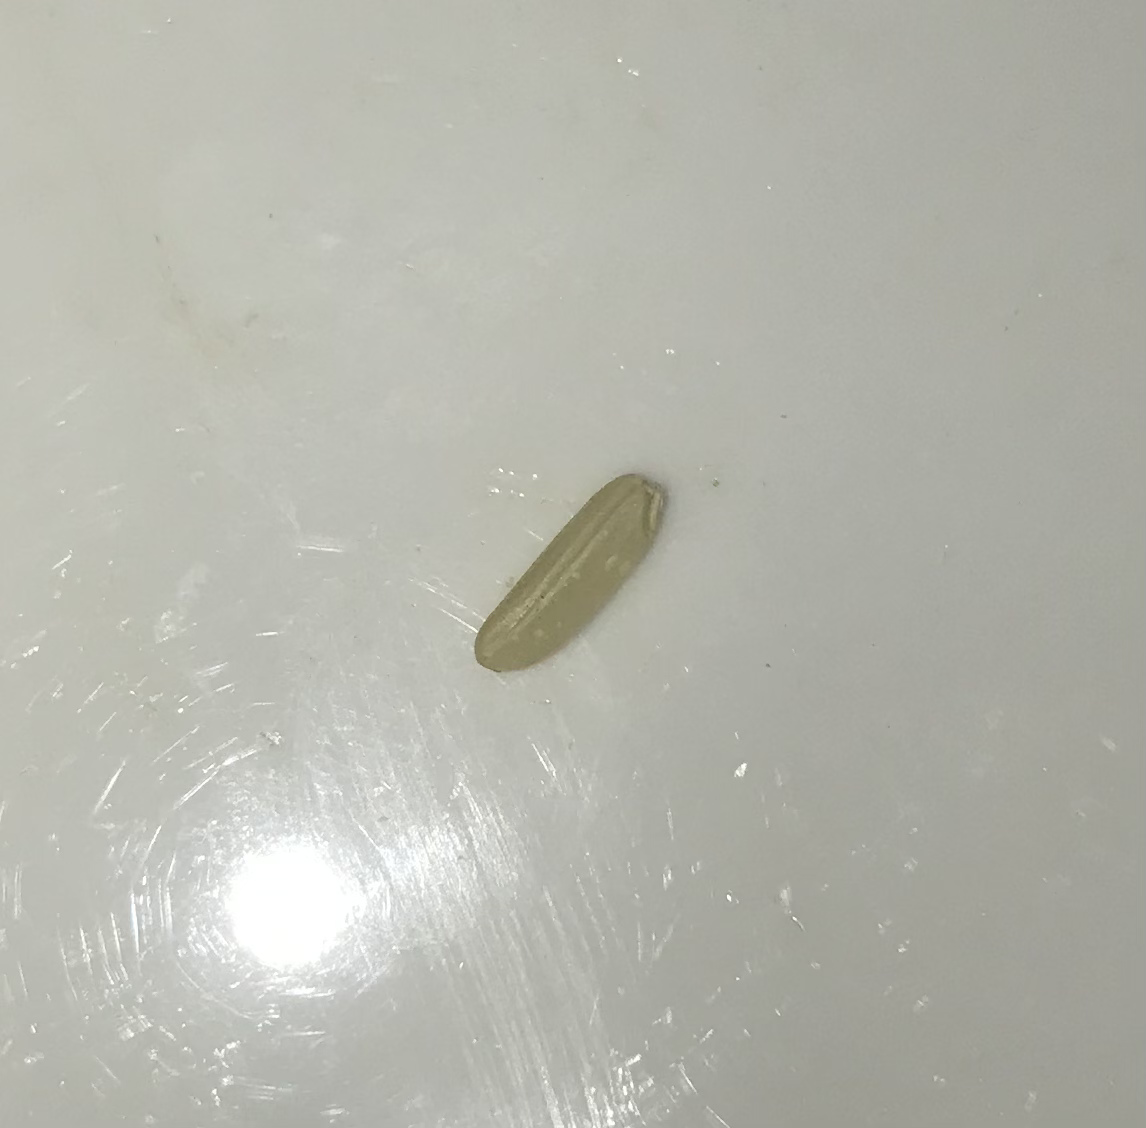Gao Lut Trang: (466, 478, 687, 680)
